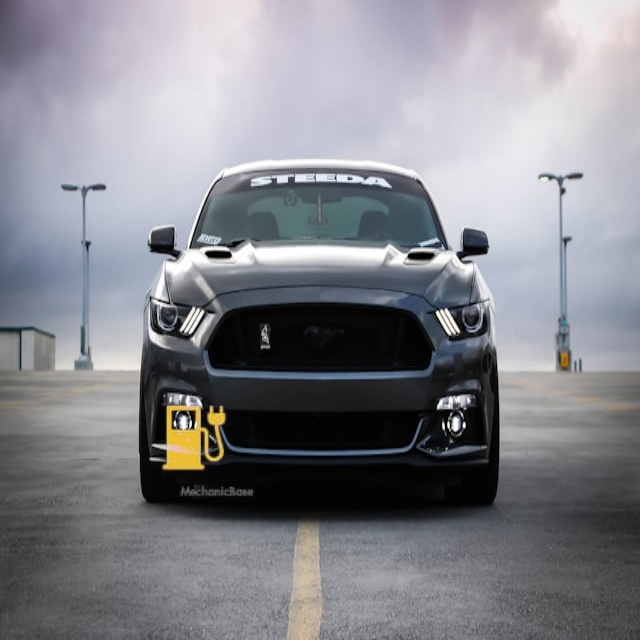symbol: (131, 375, 258, 502)
